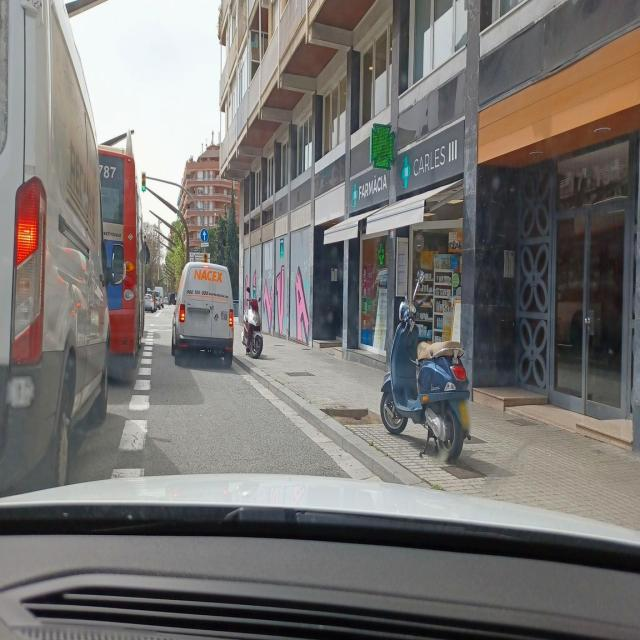bike: (378, 293, 472, 463), (241, 298, 263, 360)
car: (0, 1, 111, 505), (172, 261, 234, 367), (144, 291, 155, 312), (153, 288, 163, 309)
